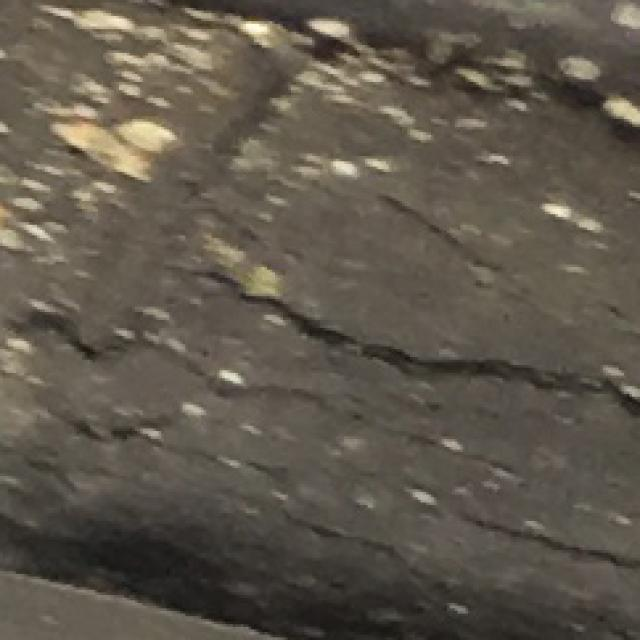Cracks: (0, 97, 637, 637)
